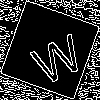W: (25, 25, 88, 87)
